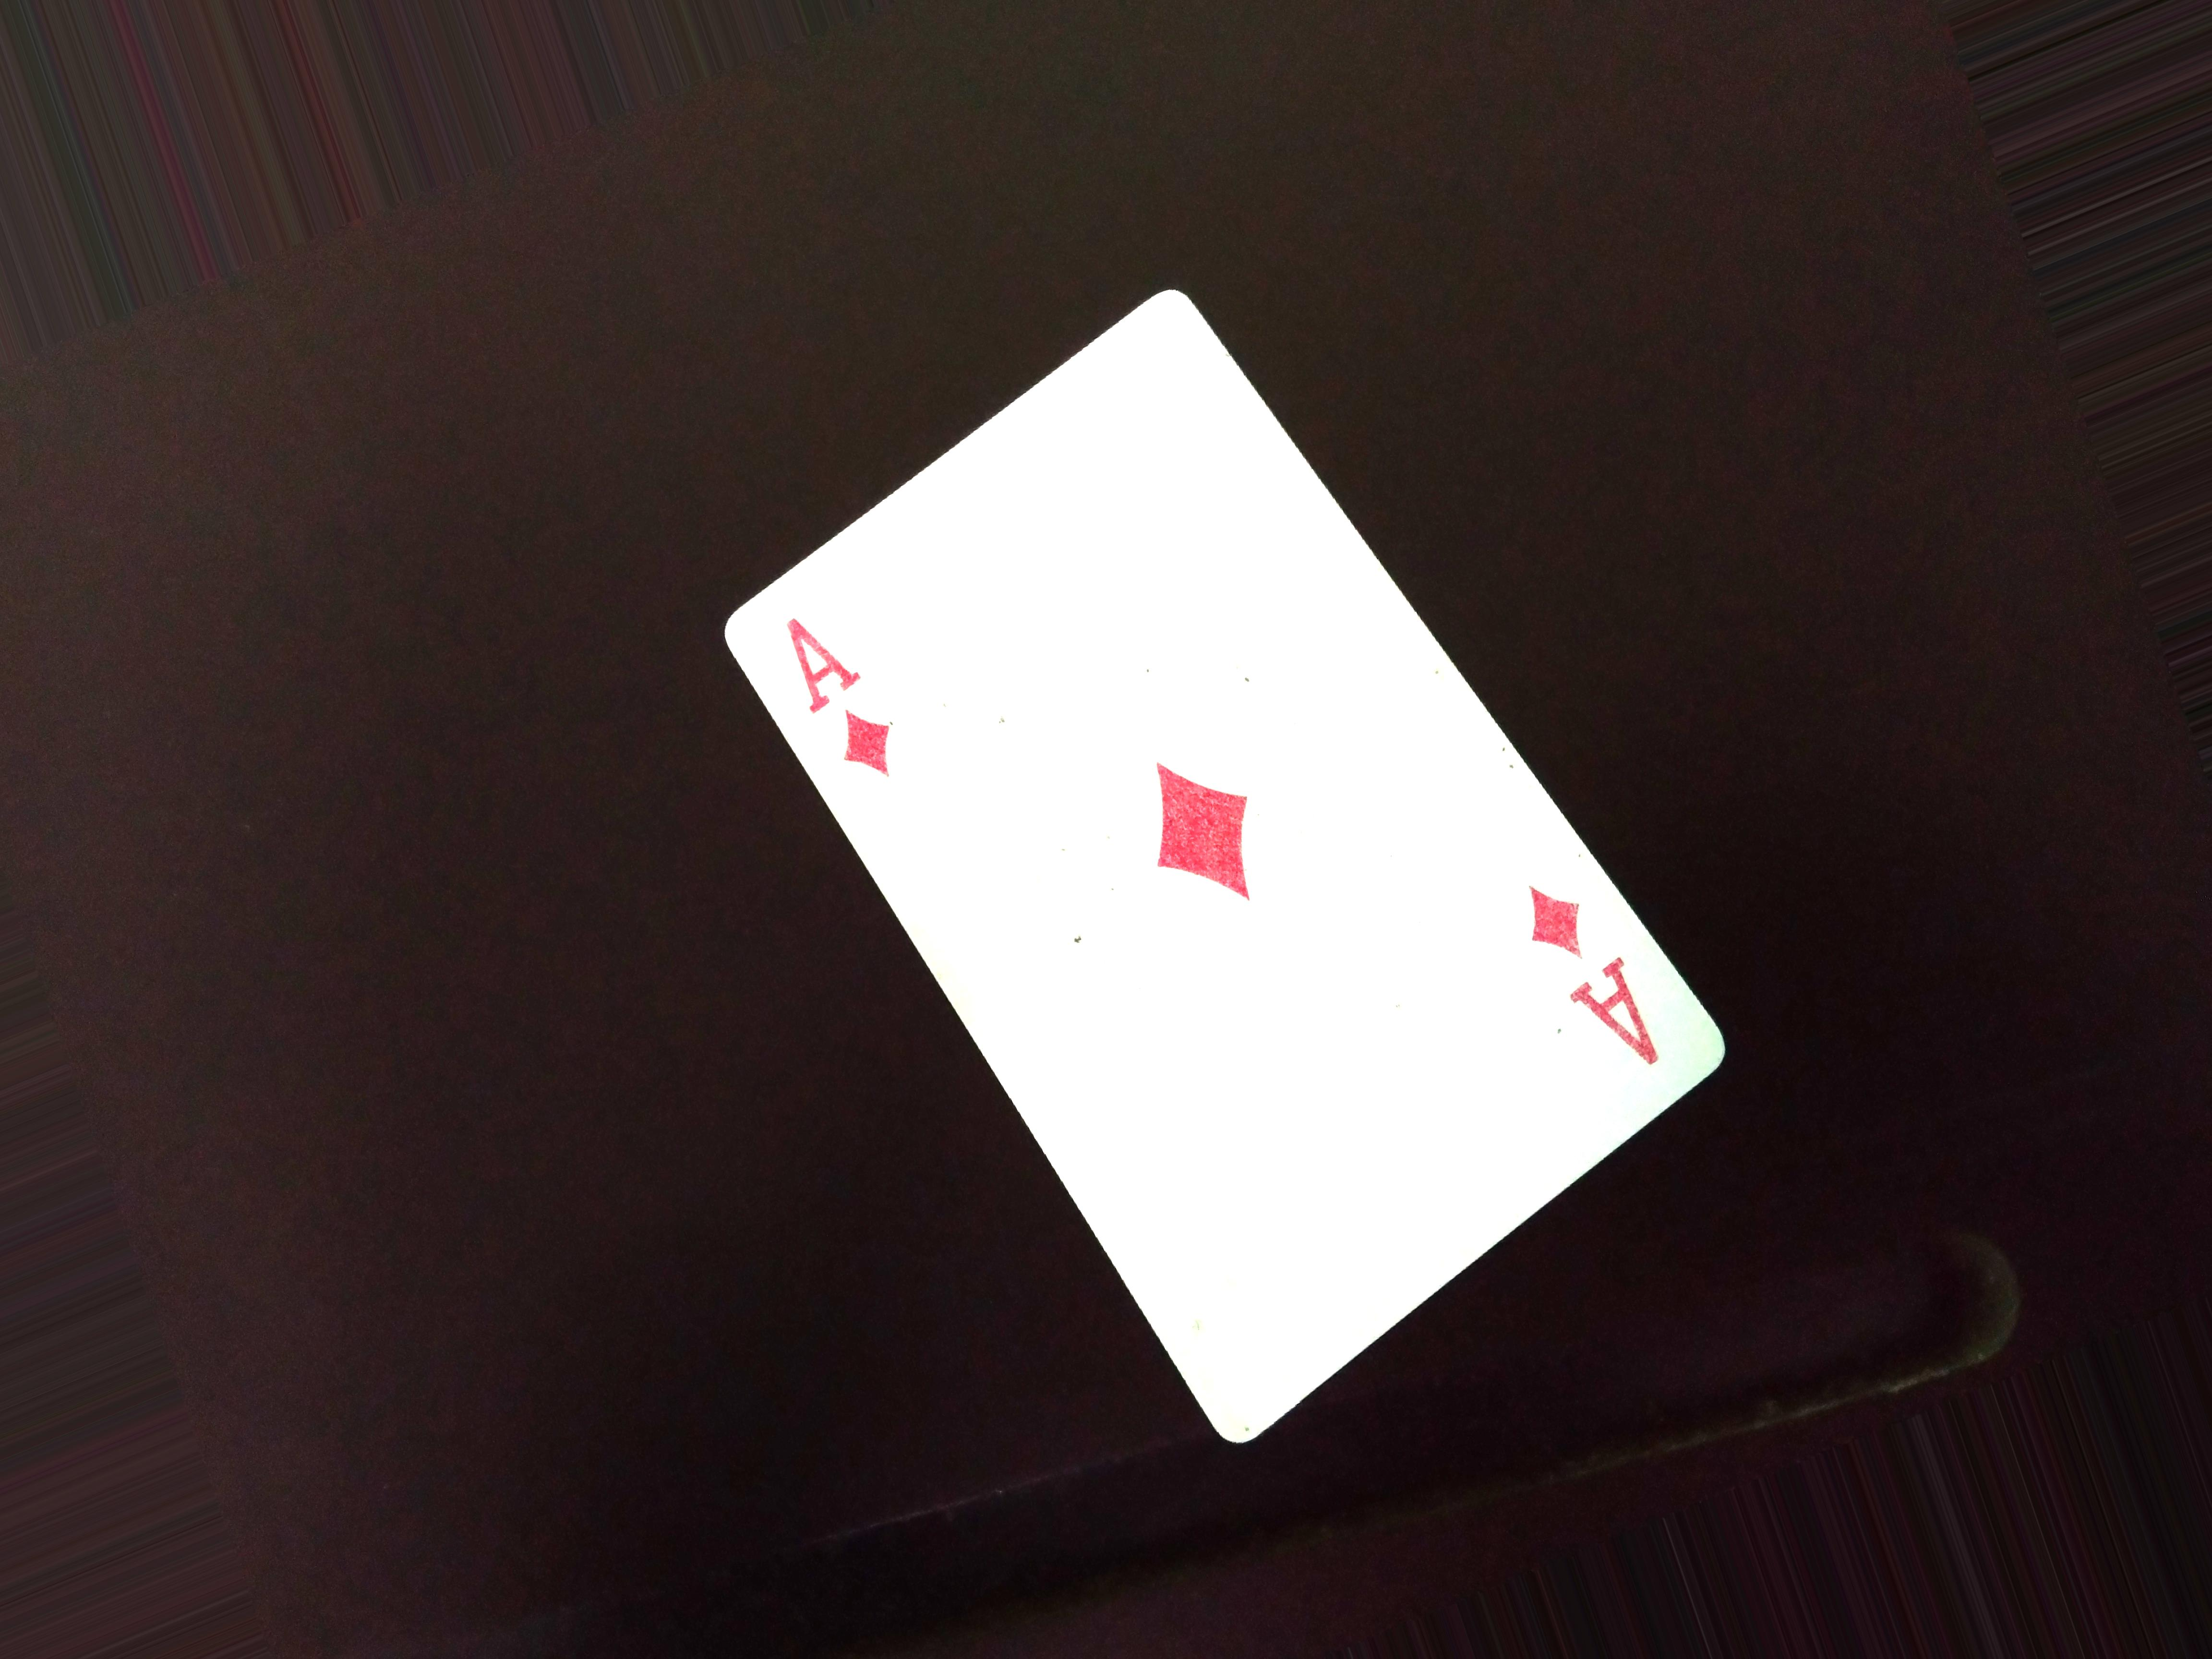AD: (775, 596, 894, 793)
